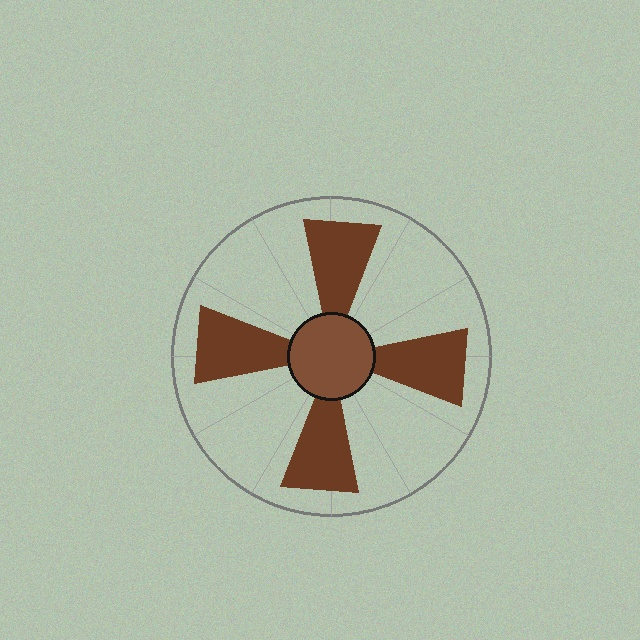fan: (167, 192, 495, 520)
